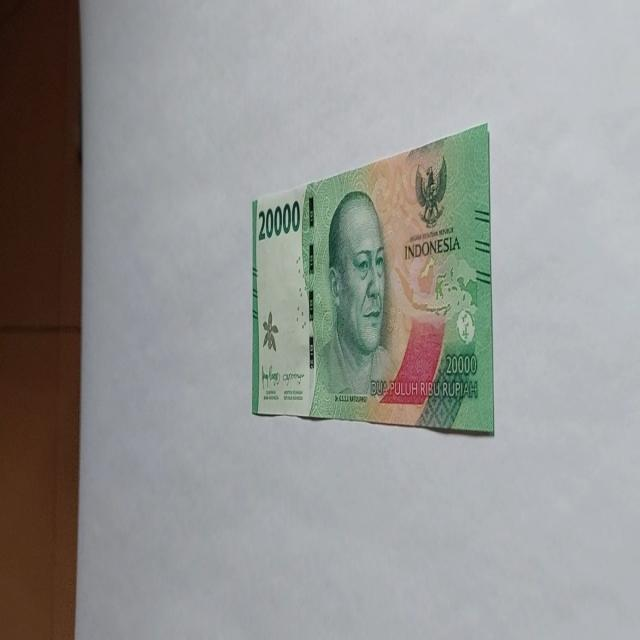dua puluh ribu rupiah: (251, 120, 494, 436), (314, 188, 400, 410)
